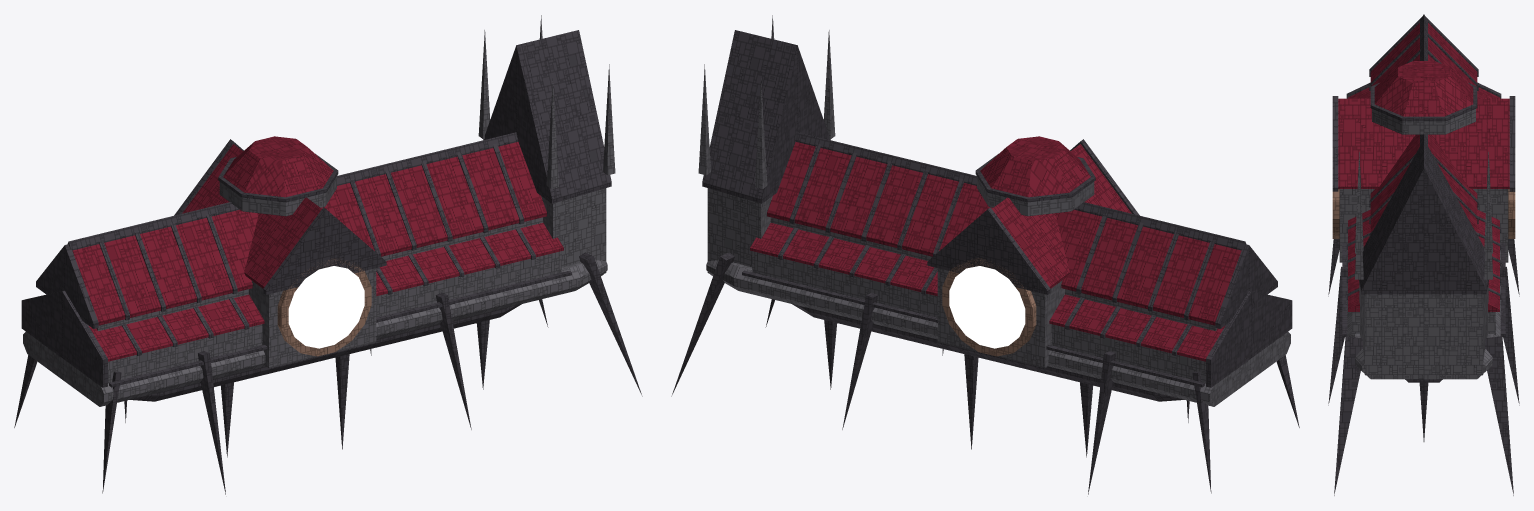
The model's file is arcane_lod2.glb.
The picture shows the model from 3 angles, left to right: view 1: azimuth 30°, elevation 25°; view 2: azimuth 150°, elevation 25°; view 3: azimuth 270°, elevation 25°; orthographic projection. The views are drawn at different scales.
Visible parts, largest first — view 1: arcane_lod2_body, arcane_lod2_glow; view 2: arcane_lod2_body, arcane_lod2_glow; view 3: arcane_lod2_body, arcane_lod2_glow.
Part boxes in pixels (left/top/right/bottom): arcane_lod2_body: left=14, top=15, right=642, bottom=494; arcane_lod2_glow: left=288, top=266, right=364, bottom=348; arcane_lod2_body: left=671, top=15, right=1299, bottom=494; arcane_lod2_glow: left=949, top=266, right=1025, bottom=348; arcane_lod2_body: left=1328, top=14, right=1519, bottom=495; arcane_lod2_glow: left=1331, top=147, right=1516, bottom=230.
Size of the model in its own units: 21 by 13.6 by 6.8.
Materials: 2 (1 with a texture image).
